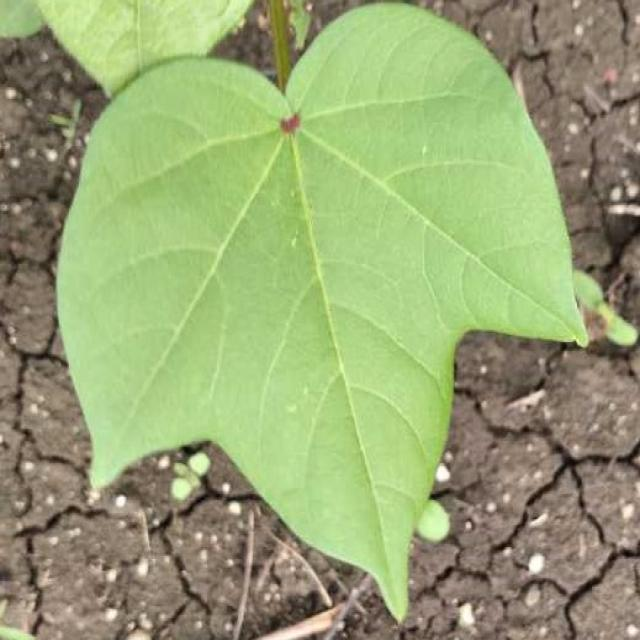Healthy Leaf: (90, 90, 426, 501)
